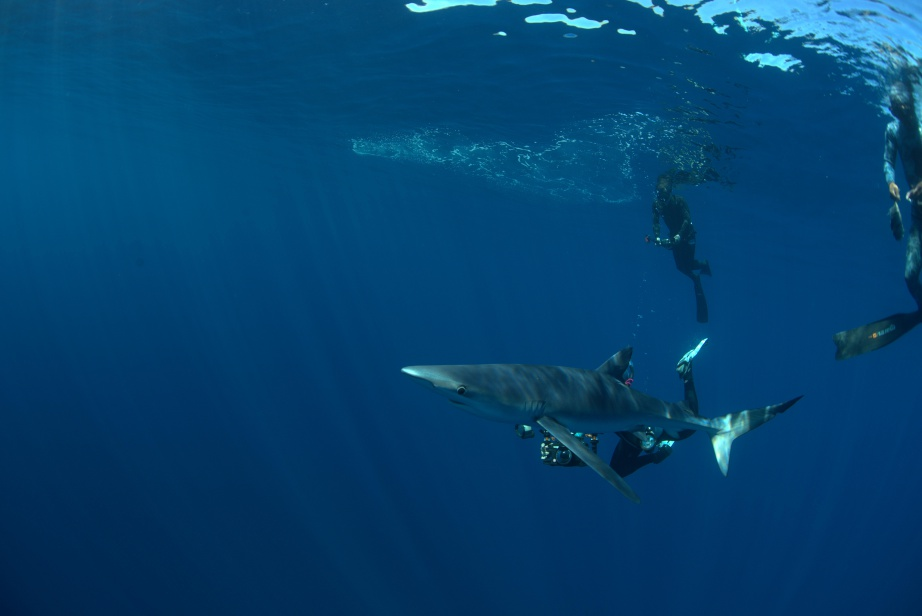Azul: (390, 320, 821, 522)
